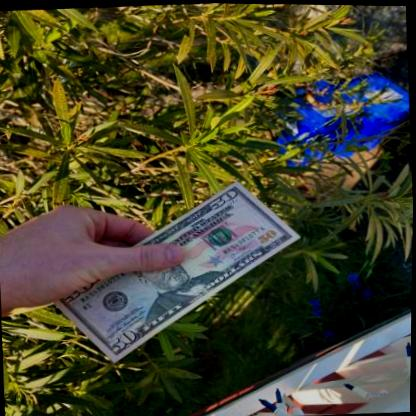fifty-front: (51, 180, 301, 364)
